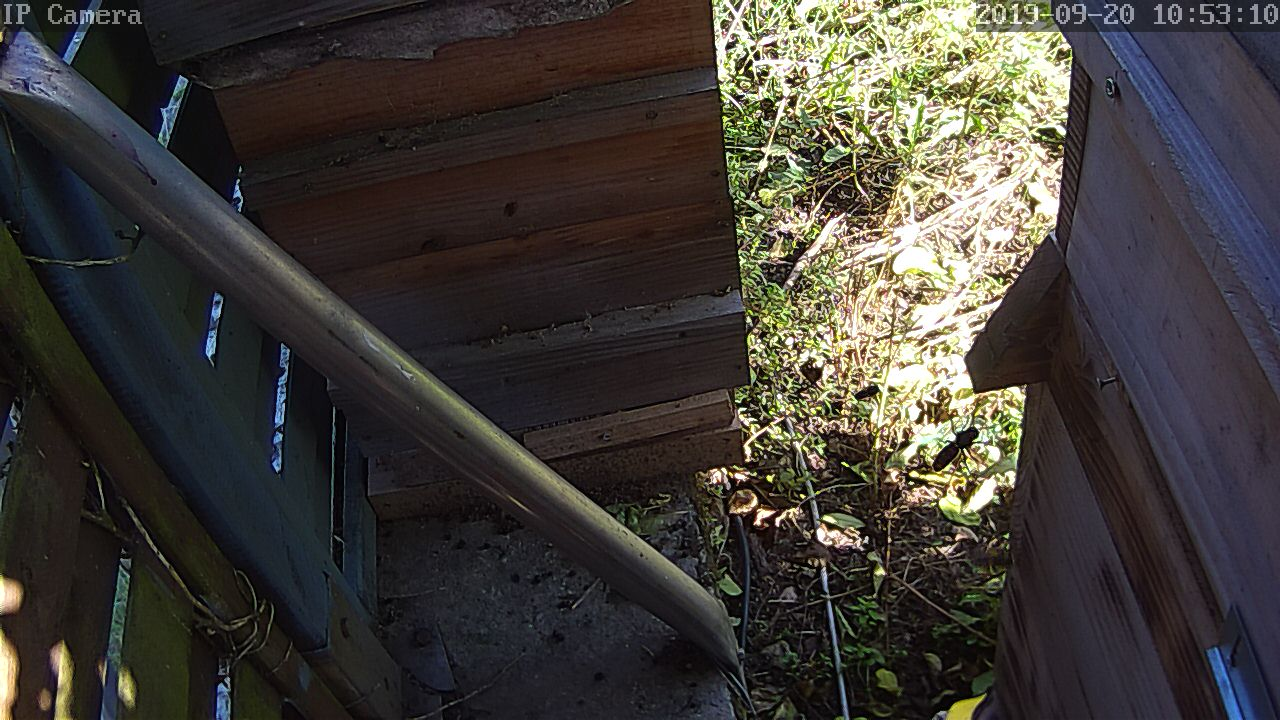hornet: (19, 22, 959, 714)
